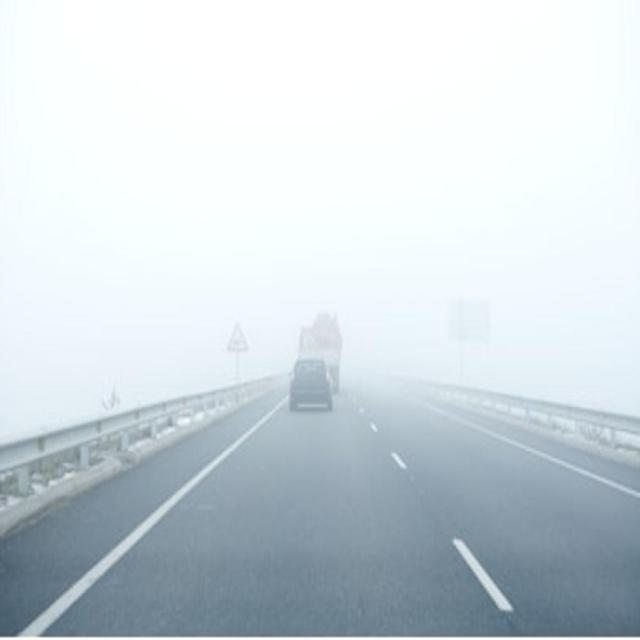Car: (288, 358, 335, 410)
Truck: (297, 309, 342, 391), (115, 383, 116, 388)
